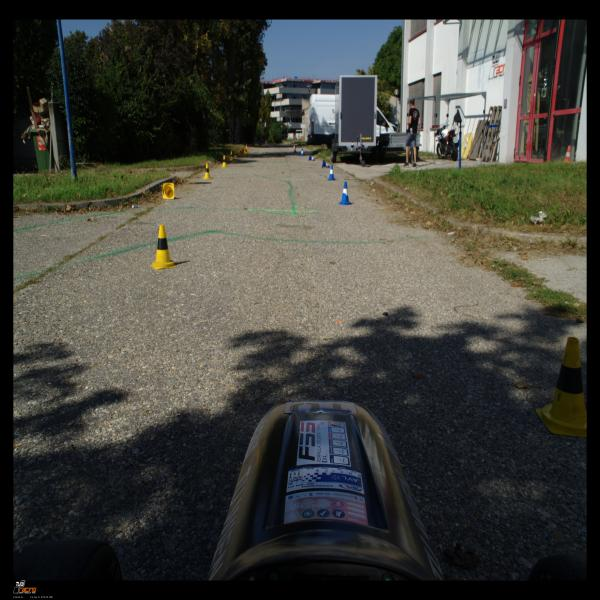blue_cone: (338, 182, 352, 205), (328, 165, 335, 180), (321, 160, 330, 168), (308, 154, 315, 161), (300, 148, 304, 156), (294, 146, 296, 154)
orange_cone: (293, 144, 295, 151)
yellow_cone: (536, 336, 586, 438), (151, 225, 176, 270), (163, 183, 174, 199), (203, 163, 211, 179), (222, 155, 227, 167), (229, 151, 234, 161), (238, 150, 243, 156)
